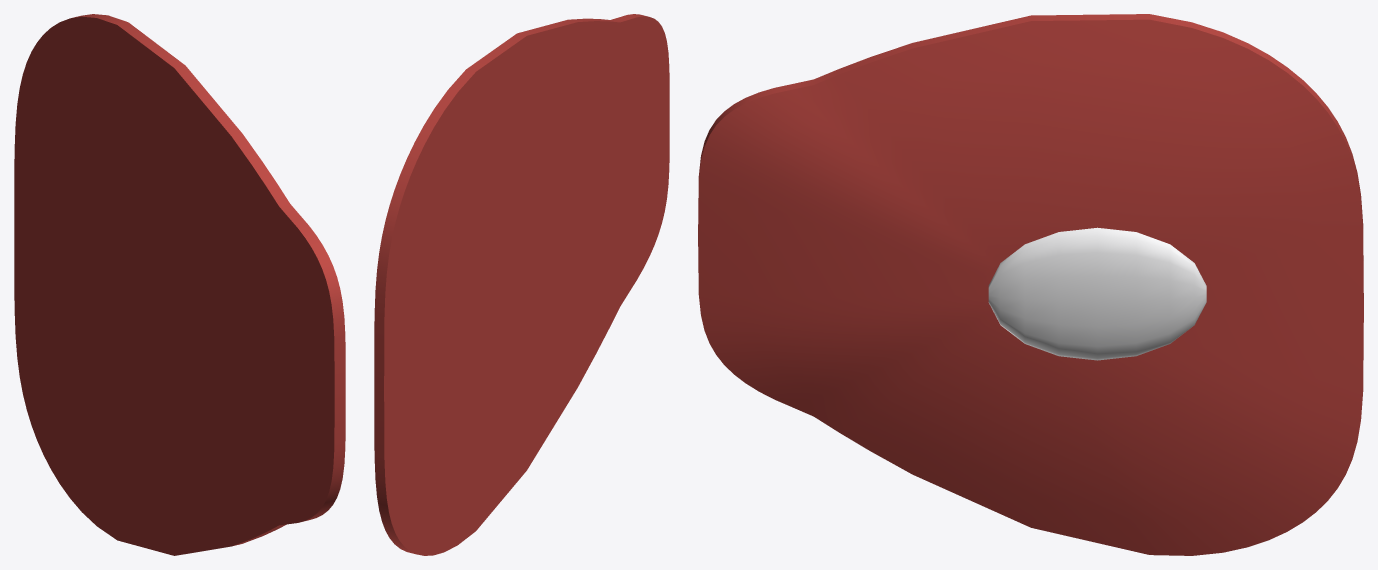
The model's file is triangle.glb.
3 views of the same model, side by side, from view 1: azimuth 30°, elevation 25°; view 2: azimuth 150°, elevation 25°; view 3: azimuth 270°, elevation 25° (orthographic). The views are drawn at different scales.
Parts seen in each view (by area): view 1: lod0; view 2: lod0; view 3: lod0.
Boxes of the visible parts, box(x1,y1,x2,y2) form: lod0: box(14, 14, 345, 555); lod0: box(374, 14, 669, 555); lod0: box(698, 14, 1363, 555).
Size of what is drawn, in the model's own units: 0.0235 by 0.1778 by 0.2.
